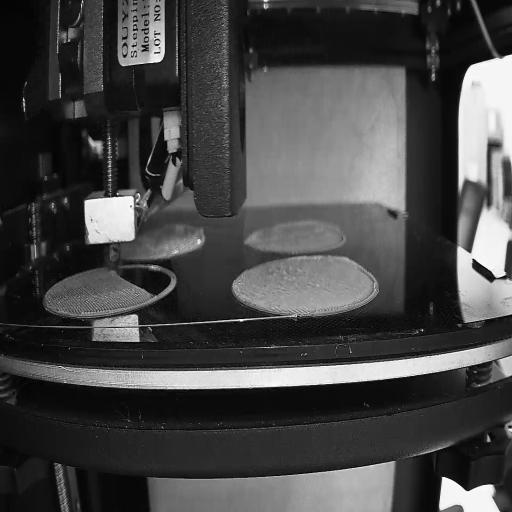over_extrusion: (357, 258, 380, 309)
